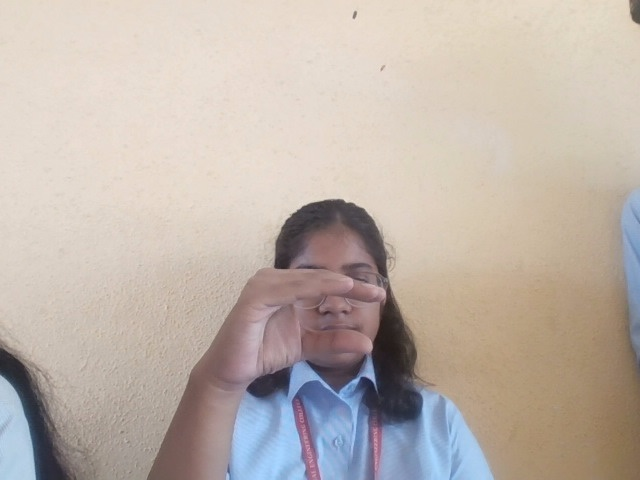No: (191, 263, 392, 383)
